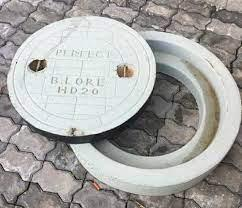fake manhole: (3, 17, 238, 189)
